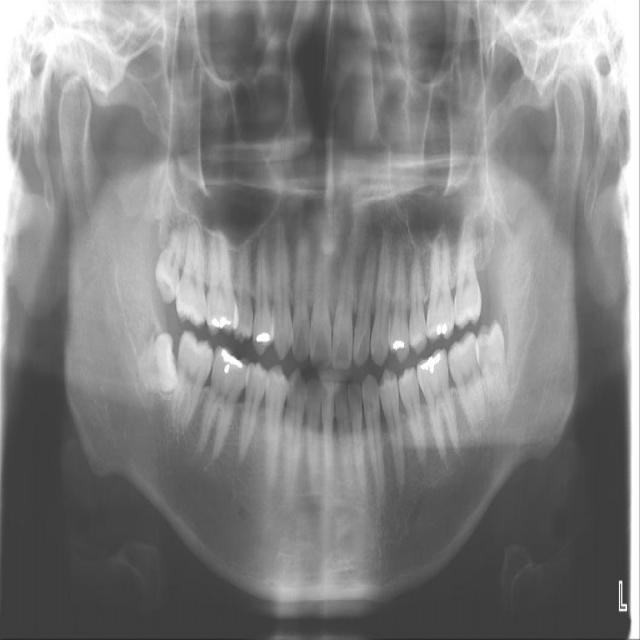3M ESPE Implant: (153, 225, 184, 304)
52: (198, 342, 256, 402), (412, 346, 456, 400), (205, 292, 239, 338), (424, 298, 456, 346), (387, 314, 411, 365), (253, 311, 274, 356)
73: (585, 570, 590, 580)
BioHorizons Implant: (452, 216, 489, 330)
Biomet 3i Implant: (473, 319, 510, 406)
Blue Sky Bio Implant: (444, 329, 490, 434)
Caries: (172, 214, 207, 329)
Implant: (169, 328, 218, 433)
Keystone Dental Implant: (131, 331, 181, 397)
